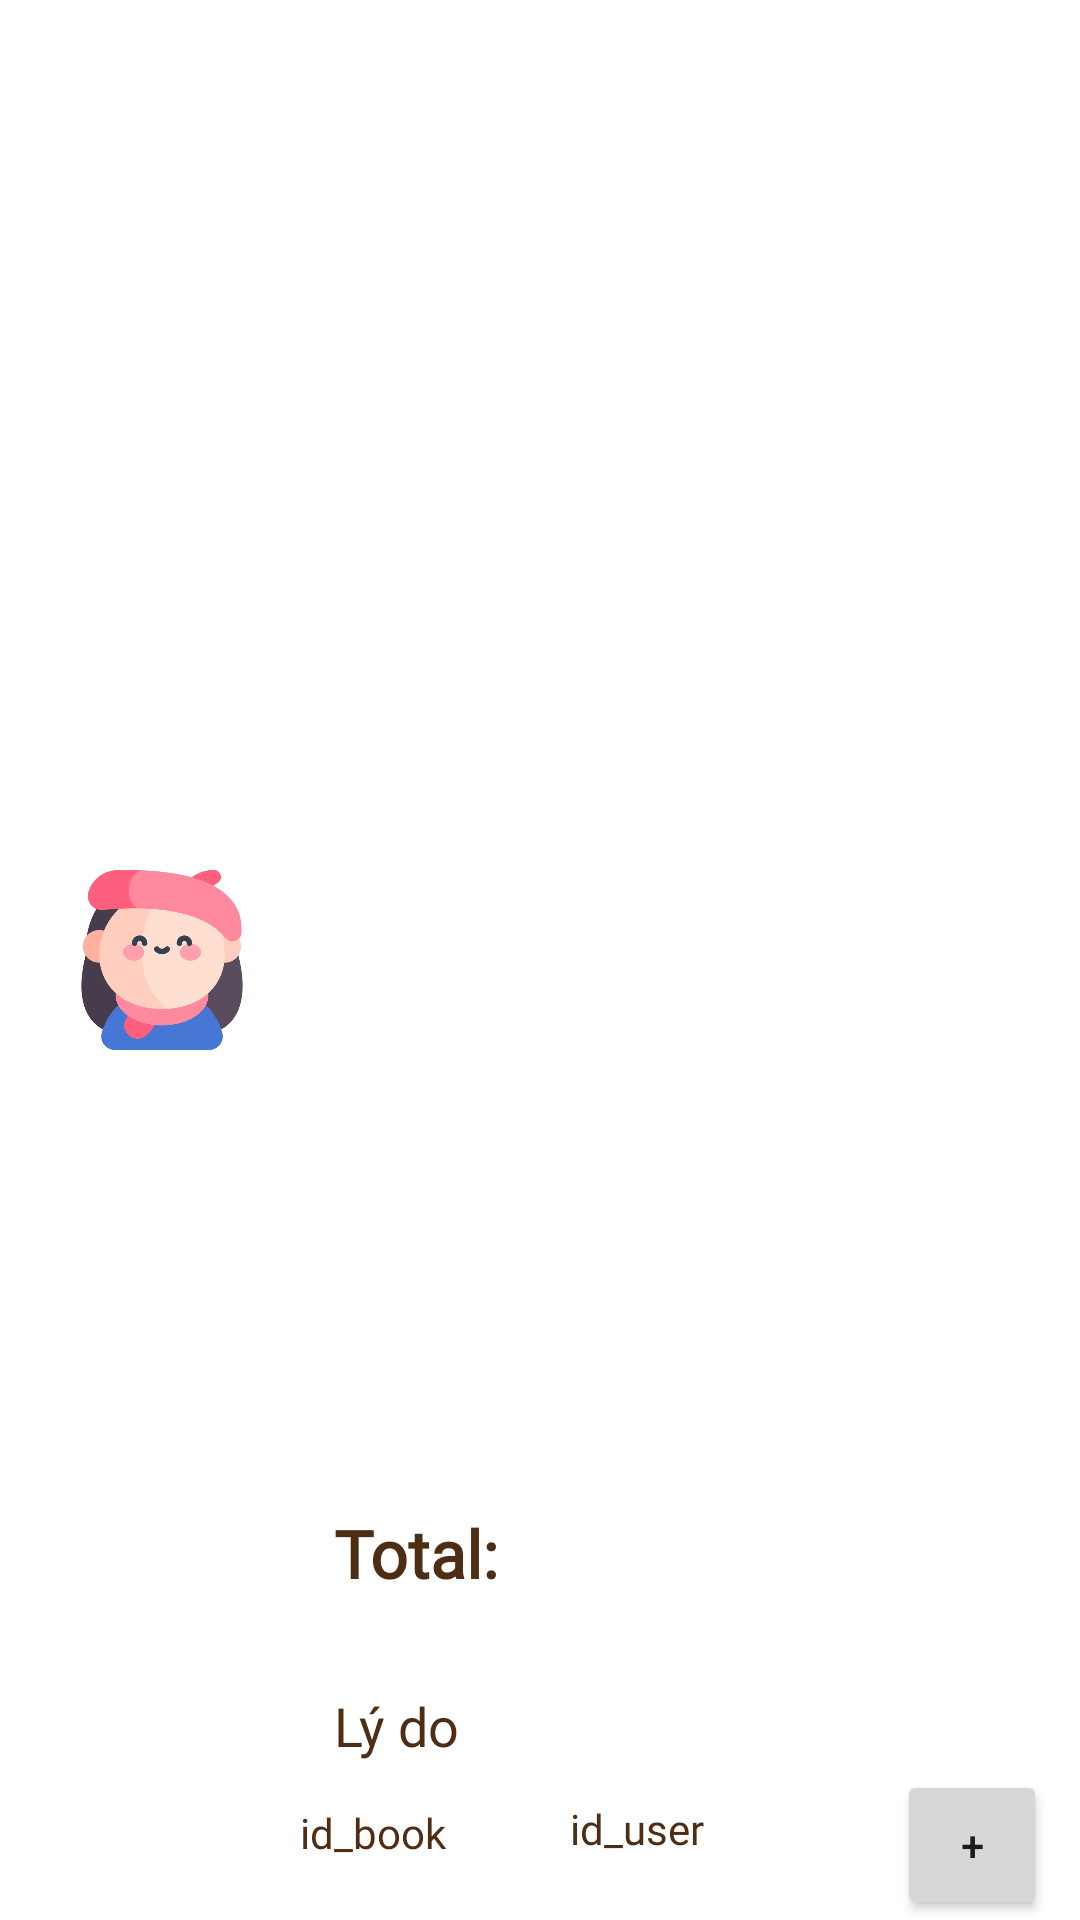

Icons on this 1080 × 1920 Android screen, each with the point to tap as (x=x, y=y):
admin: (x=162, y=960)
